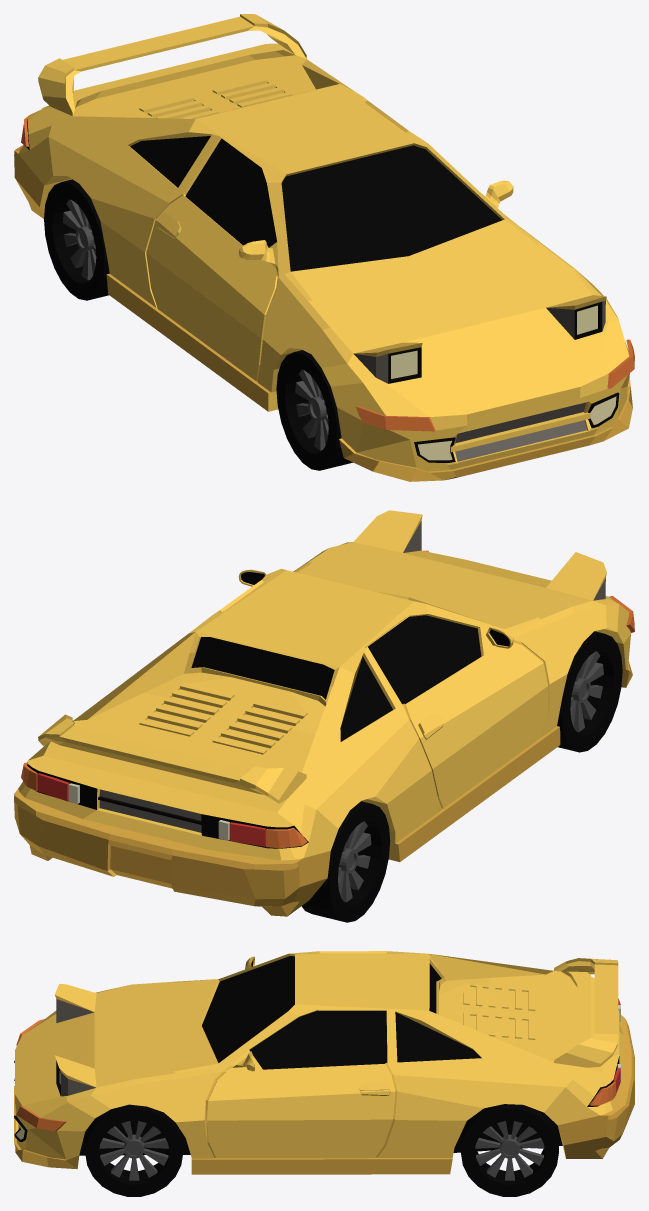
File: Coupe.glb
3 views of the same model, one above another, from view 1: azimuth 30°, elevation 25°; view 2: azimuth 150°, elevation 25°; view 3: azimuth 270°, elevation 25° (orthographic). The views are drawn at different scales.
Parts seen in each view (by area): view 1: Body, FrontRightWheel, RightRearWheel, FrontRightIndicator; view 2: Body, RightRearWheel, FrontRightWheel, RightBrakeLight, RightRearIndicator, LeftBrakeLight; view 3: Body, LeftRearWheel, FrontLeftWheel, FrontLeftIndicator, LeftRearIndicator.
Part boxes in pixels (x1=…): Body: x1=14, y1=14, x2=632, y2=481; FrontRightWheel: x1=276, y1=350, x2=352, y2=470; RightRearWheel: x1=44, y1=179, x2=109, y2=300; FrontRightIndicator: x1=356, y1=405, x2=435, y2=431; Body: x1=14, y1=510, x2=632, y2=916; RightRearWheel: x1=301, y1=801, x2=390, y2=922; FrontRightWheel: x1=557, y1=631, x2=622, y2=752; RightBrakeLight: x1=229, y1=822, x2=266, y2=846; RightRearIndicator: x1=266, y1=827, x2=307, y2=848; LeftBrakeLight: x1=37, y1=773, x2=69, y2=801; Body: x1=14, y1=951, x2=634, y2=1174; LeftRearWheel: x1=461, y1=1104, x2=558, y2=1196; FrontLeftWheel: x1=85, y1=1104, x2=183, y2=1196; FrontLeftIndicator: x1=16, y1=1106, x2=66, y2=1131; LeftRearIndicator: x1=589, y1=1081, x2=616, y2=1105.
Size of the model in its own units: 2.2 by 1.44 by 5.03.
